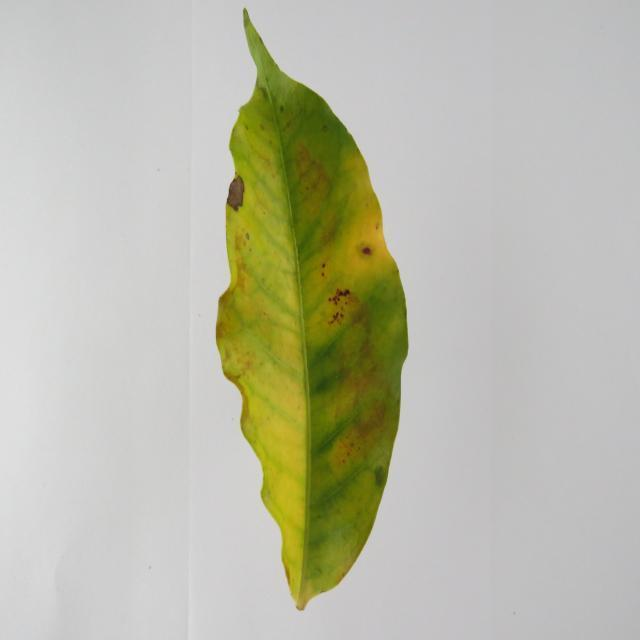DeficienciaNutricional-Nitrogeno: (216, 10, 408, 610)
